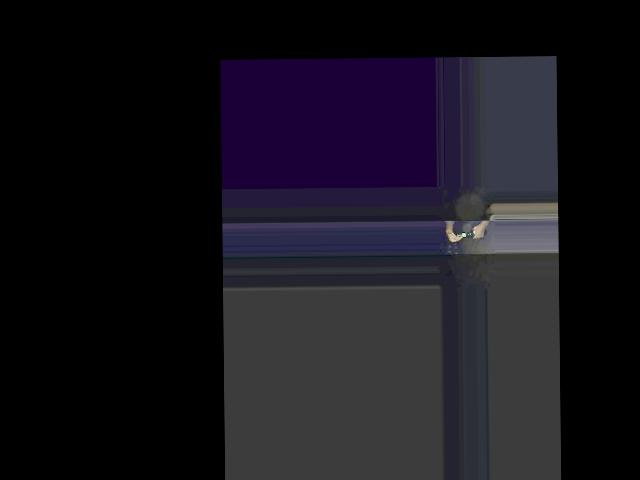beer: (457, 227, 486, 237)
